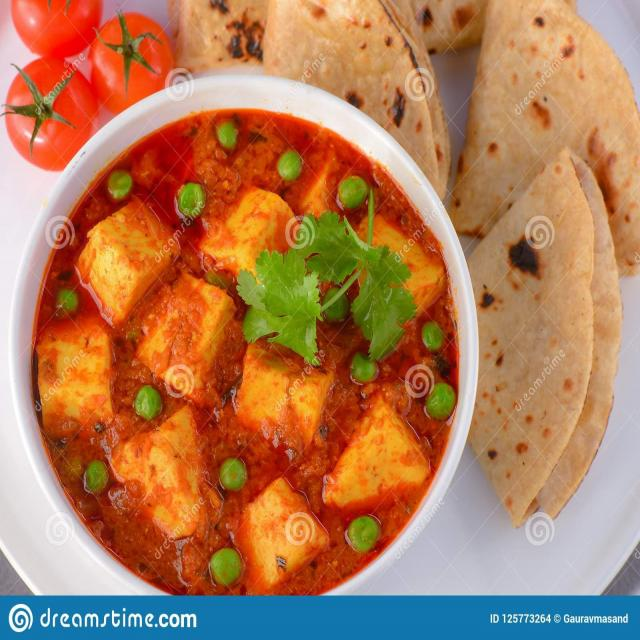roti: (338, 3, 640, 136)
